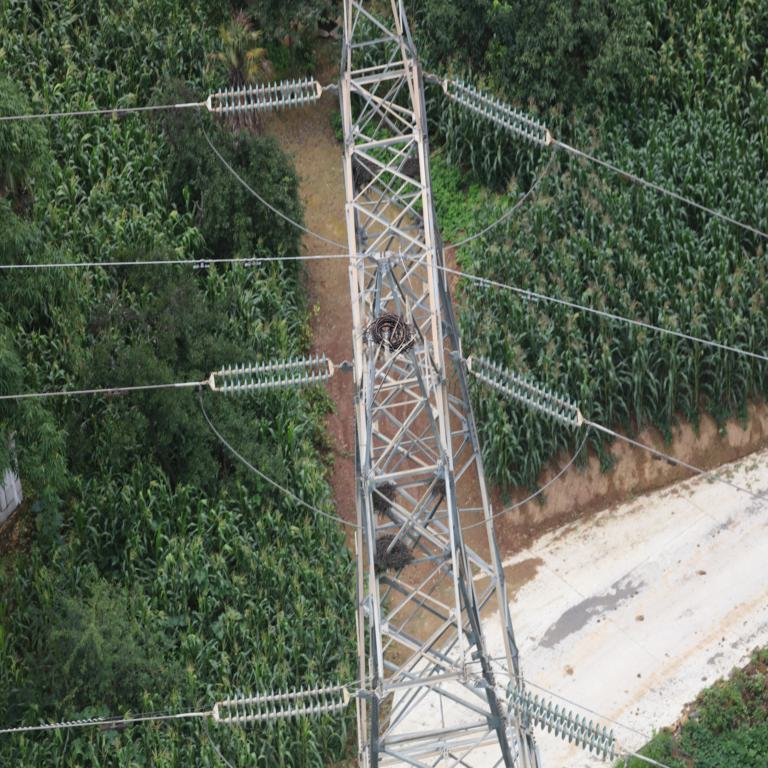nest: (366, 311, 417, 351), (376, 536, 409, 569), (348, 152, 374, 190), (371, 482, 395, 512), (426, 471, 457, 493), (394, 160, 423, 179)
